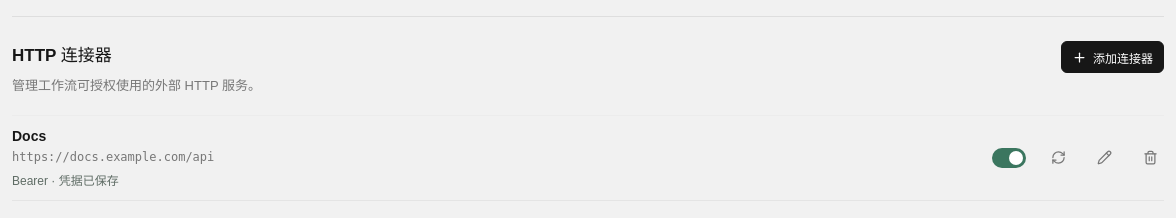
Test: ConnectorSettings › keeps the current enabled state when Main rejects a toggle
The image size is (1176, 218).
Click the switch named "停用连接器 Docs" at [1009, 158], box [992,148,1026,168]
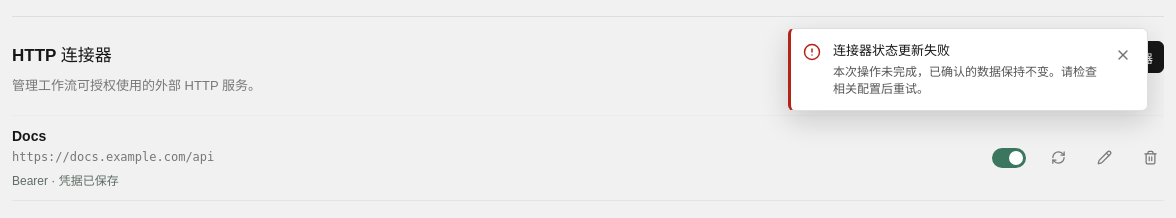
Check: the message shows "连接器状态更新失败", box [833,43,950,58]
